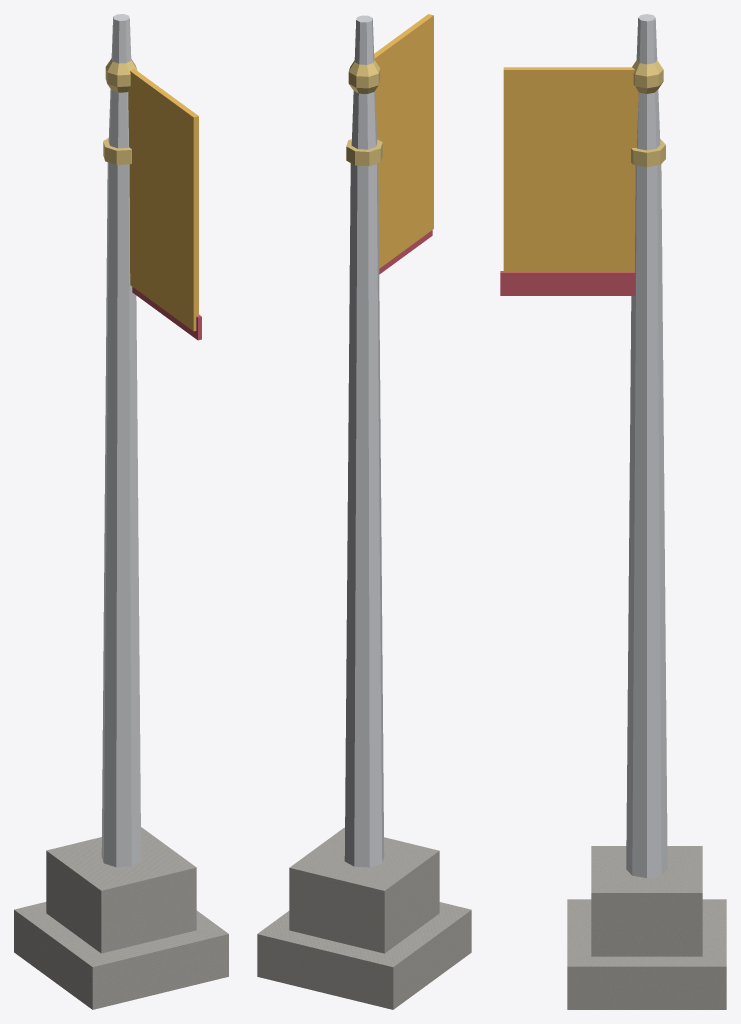
Rendered from indian-bazaar-street-and-temple-temple-flagpole-95806b7d__36543.glb.
3 renders of one model, left to right at view 1: azimuth 30°, elevation 25°; view 2: azimuth 150°, elevation 25°; view 3: azimuth 270°, elevation 25°, orthographic.
Visible parts, largest first — view 1: temple-flagpole-stone, temple-flagpole-steel, temple-flagpole-saffron, temple-flagpole-brass, temple-flagpole-crimson; view 2: temple-flagpole-steel, temple-flagpole-stone, temple-flagpole-saffron, temple-flagpole-brass; view 3: temple-flagpole-saffron, temple-flagpole-steel, temple-flagpole-stone, temple-flagpole-crimson, temple-flagpole-brass.
Boxes of the visible parts, bbox=[...] form: temple-flagpole-stone: bbox=[14, 827, 228, 1009]; temple-flagpole-steel: bbox=[101, 14, 141, 867]; temple-flagpole-saffron: bbox=[128, 68, 198, 331]; temple-flagpole-brass: bbox=[103, 58, 137, 164]; temple-flagpole-crimson: bbox=[132, 287, 201, 340]; temple-flagpole-steel: bbox=[344, 15, 384, 867]; temple-flagpole-stone: bbox=[257, 827, 471, 1009]; temple-flagpole-saffron: bbox=[374, 14, 433, 268]; temple-flagpole-brass: bbox=[346, 60, 382, 166]; temple-flagpole-saffron: bbox=[503, 67, 638, 272]; temple-flagpole-steel: bbox=[626, 14, 667, 878]; temple-flagpole-stone: bbox=[567, 846, 726, 1009]; temple-flagpole-crimson: bbox=[500, 271, 635, 295]; temple-flagpole-brass: bbox=[631, 60, 665, 167].
Bounding box in the file's own units: 1 × 6.64 × 1.42.
5 materials, 1 textured.
